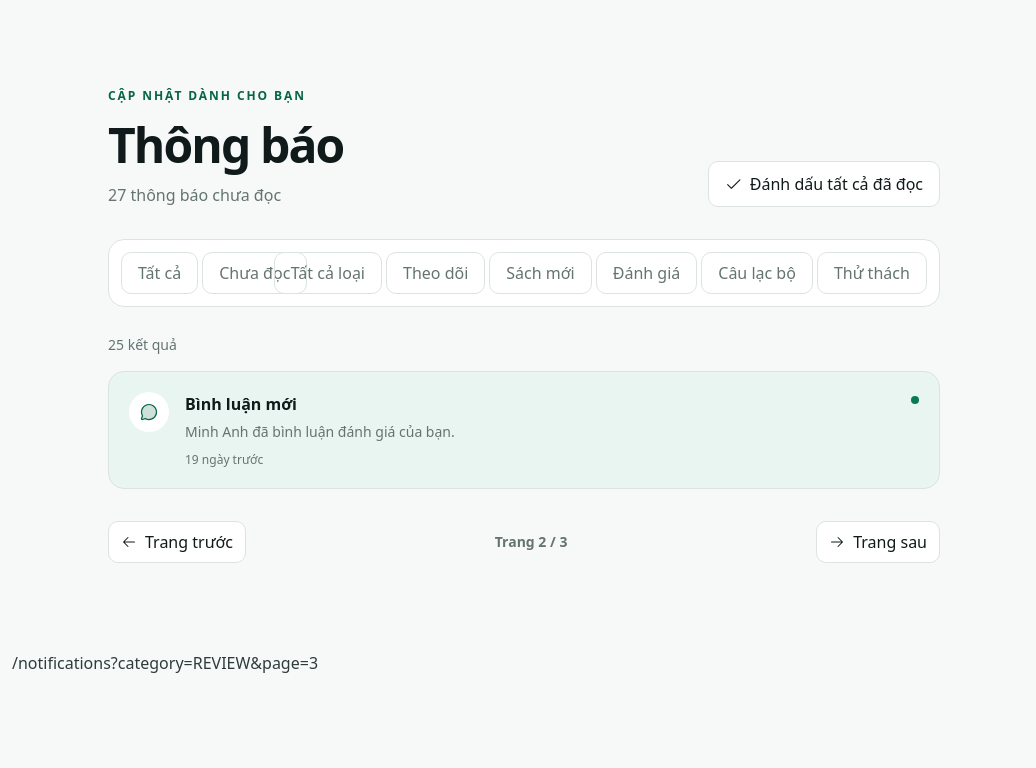
it: notification center v2 › switches category without preserving a stale page
This screenshot has width=1036, height=768.
Click the button "Câu lạc bộ". click: [757, 273]
box: [701,252,813,294]
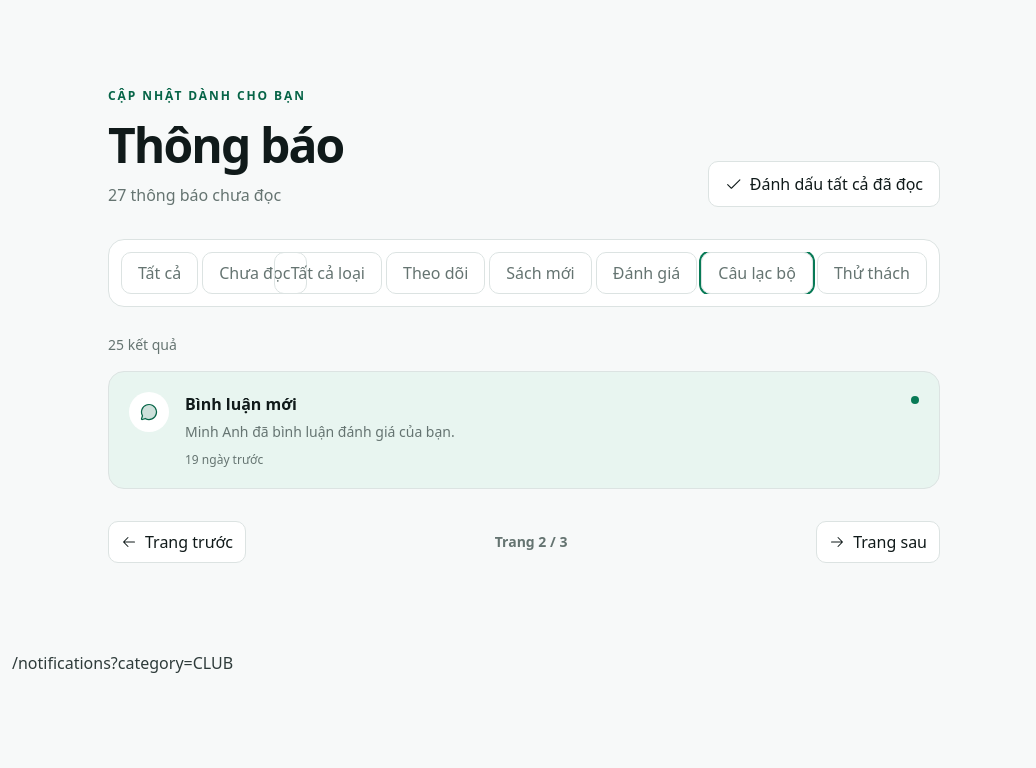
Check: the text with test id "location" reads "/notifications?category=CLUB", box [12,652,233,674]
